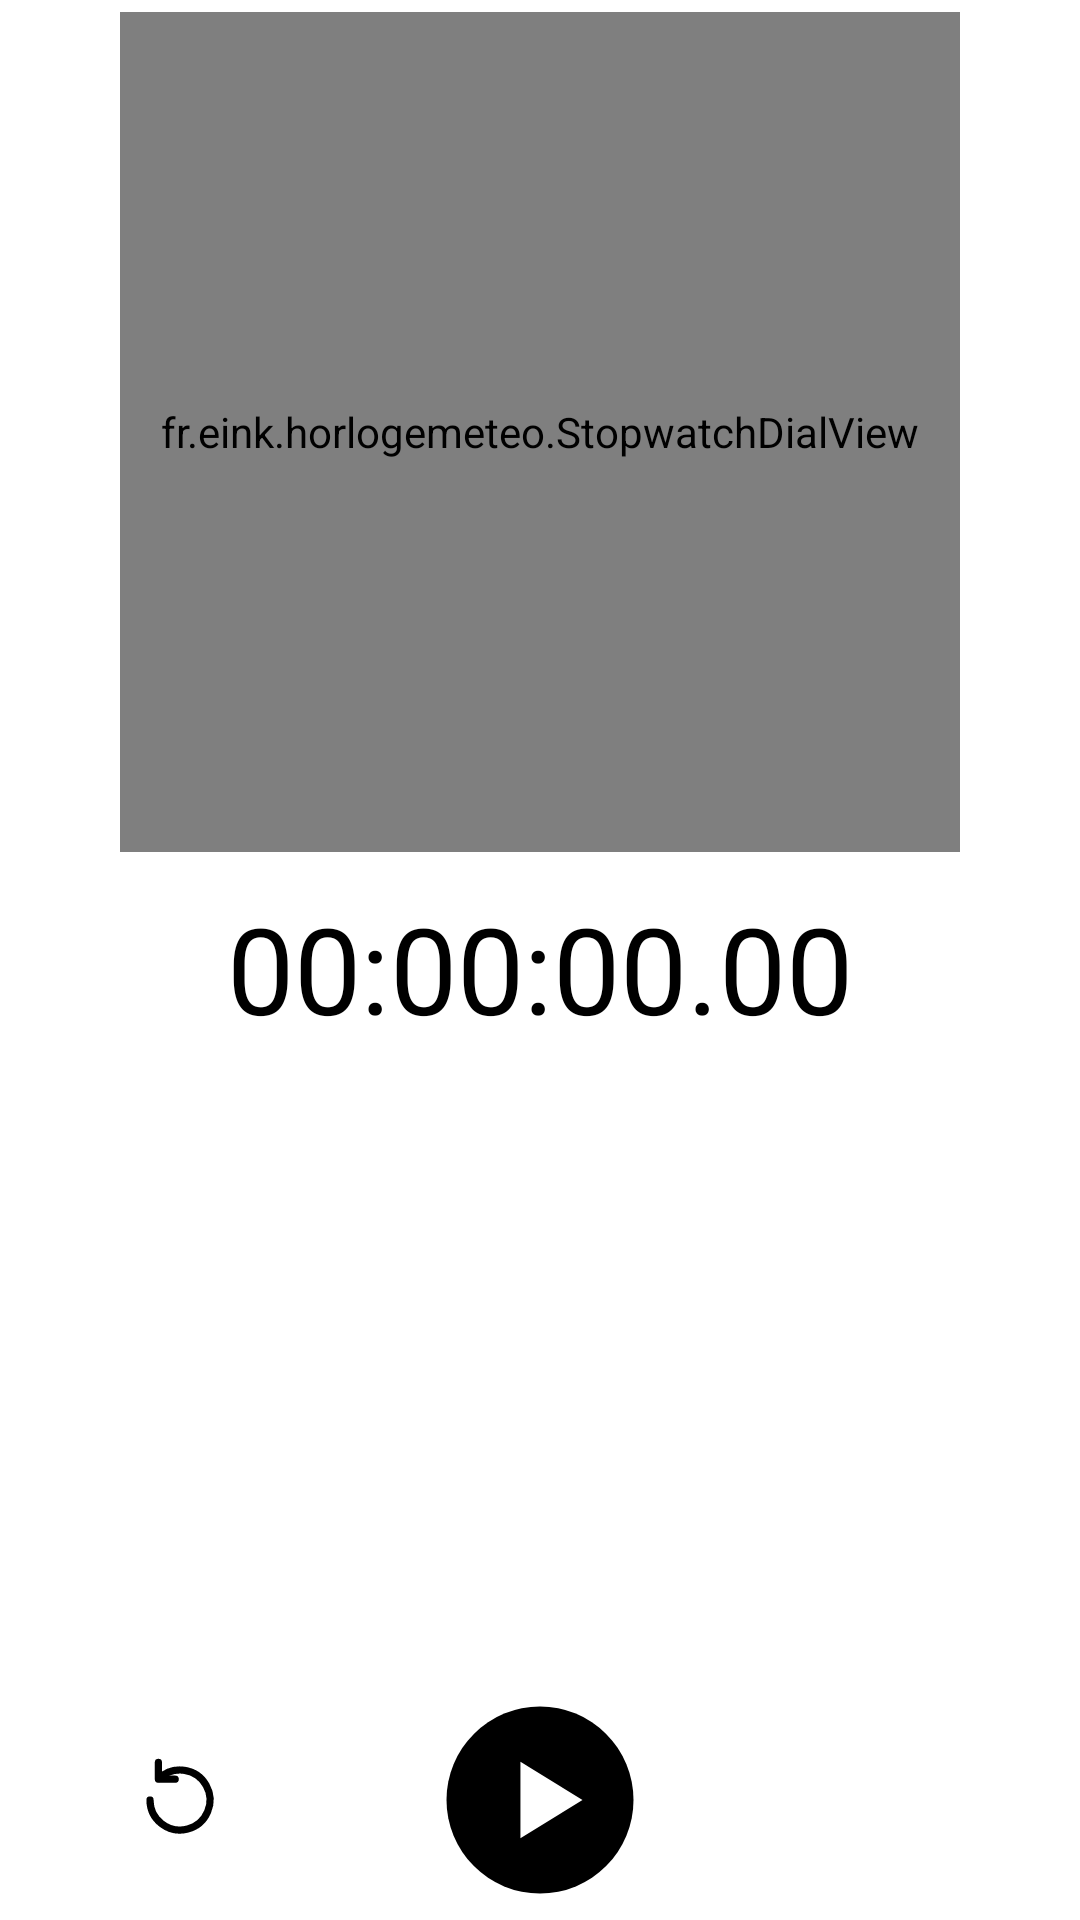

Icon bounding boxes for this 1080x1920 phone screenshot, format detection(x1, y1, x2, y2):
Démarrer: detection(446, 1706, 634, 1894)
Remettre à zéro: detection(146, 1758, 214, 1834)
